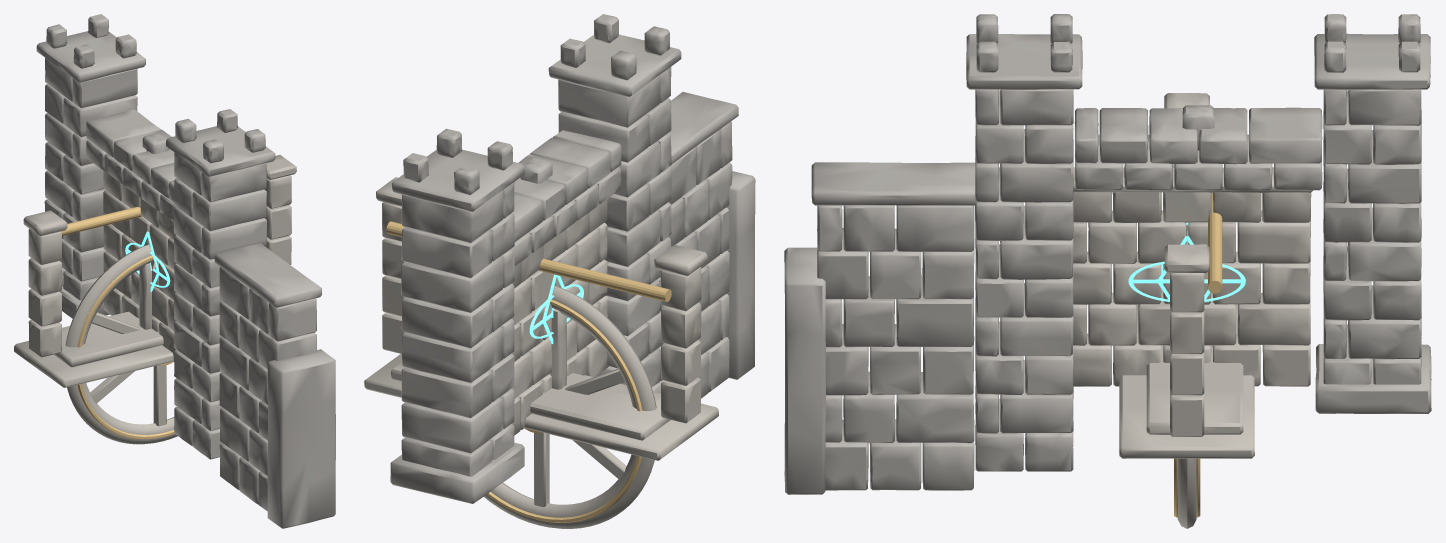
Rendered from halo.glb.
3 views of the same model, side by side, from view 1: azimuth 30°, elevation 25°; view 2: azimuth 150°, elevation 25°; view 3: azimuth 270°, elevation 25° (orthographic). The views are drawn at different scales.
Parts seen in each view (by area): view 1: halo_gate_front, halo_gate_back, halo_dais, halo_door, halo_wheel, halo_stele; view 2: halo_gate_back, halo_gate_front, halo_dais, halo_door, halo_wheel, halo_stele; view 3: halo_gate_front, halo_gate_back, halo_door, halo_dais, halo_wheel.
Boxes of the visible parts, left/top/right/bottom form: halo_gate_front: left=166, top=109, right=335, bottom=528; halo_gate_back: left=36, top=14, right=176, bottom=318; halo_dais: left=14, top=155, right=296, bottom=387; halo_door: left=103, top=170, right=176, bottom=360; halo_wheel: left=65, top=244, right=177, bottom=444; halo_stele: left=139, top=260, right=156, bottom=329; halo_gate_back: left=390, top=128, right=621, bottom=503; halo_gate_front: left=548, top=14, right=755, bottom=398; halo_dais: left=364, top=177, right=718, bottom=460; halo_door: left=511, top=199, right=609, bottom=435; halo_wheel: left=484, top=286, right=656, bottom=528; halo_stele: left=549, top=309, right=566, bottom=389; halo_gate_front: left=784, top=14, right=1082, bottom=494; halo_gate_back: left=1074, top=14, right=1431, bottom=413; halo_door: left=1073, top=167, right=1312, bottom=386; halo_dais: left=1119, top=93, right=1254, bottom=458; halo_wheel: left=1174, top=230, right=1200, bottom=528.
Bounding box in the file's own units: 8.91 × 11.8 × 14.32.
